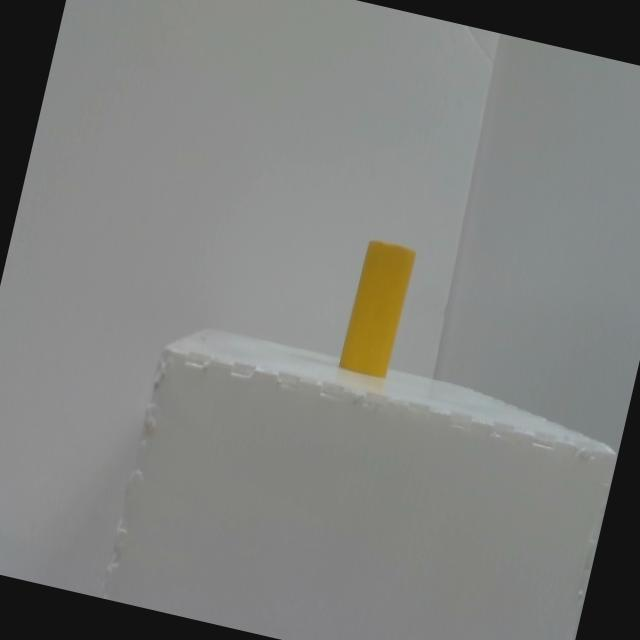yellow_cylinder: (338, 237, 416, 379)
